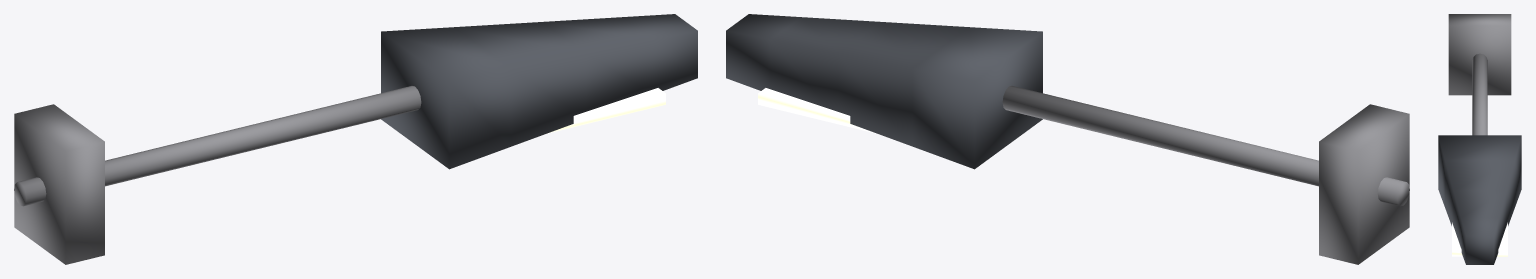
File: pylon_lamp_attachment.glb
The picture shows the model from 3 angles, left to right: view 1: azimuth 30°, elevation 25°; view 2: azimuth 150°, elevation 25°; view 3: azimuth 270°, elevation 25°; orthographic projection. The views are drawn at different scales.
Visible parts, largest first — view 1: _EXP_Lamp_Head, _EXP_Lamp_Bracket, _EXP_Lamp_Arm, _EXP_Lamp_Lens; view 2: _EXP_Lamp_Head, _EXP_Lamp_Bracket, _EXP_Lamp_Arm, _EXP_Lamp_Lens; view 3: _EXP_Lamp_Head, _EXP_Lamp_Bracket, _EXP_Lamp_Arm, _EXP_Lamp_Lens.
Boxes of the visible parts, left/top/right/bottom form: _EXP_Lamp_Head: left=381, top=14, right=697, bottom=169; _EXP_Lamp_Bracket: left=14, top=104, right=104, bottom=264; _EXP_Lamp_Arm: left=14, top=86, right=421, bottom=206; _EXP_Lamp_Lens: left=546, top=88, right=665, bottom=133; _EXP_Lamp_Head: left=726, top=14, right=1042, bottom=169; _EXP_Lamp_Bracket: left=1319, top=104, right=1409, bottom=264; _EXP_Lamp_Arm: left=1002, top=86, right=1409, bottom=206; _EXP_Lamp_Lens: left=758, top=88, right=877, bottom=133; _EXP_Lamp_Head: left=1438, top=135, right=1521, bottom=264; _EXP_Lamp_Bracket: left=1448, top=14, right=1511, bottom=95; _EXP_Lamp_Arm: left=1472, top=53, right=1487, bottom=135; _EXP_Lamp_Lens: left=1452, top=222, right=1507, bottom=256.
Size of the model in its own units: 1.35 by 0.22 by 0.24.
